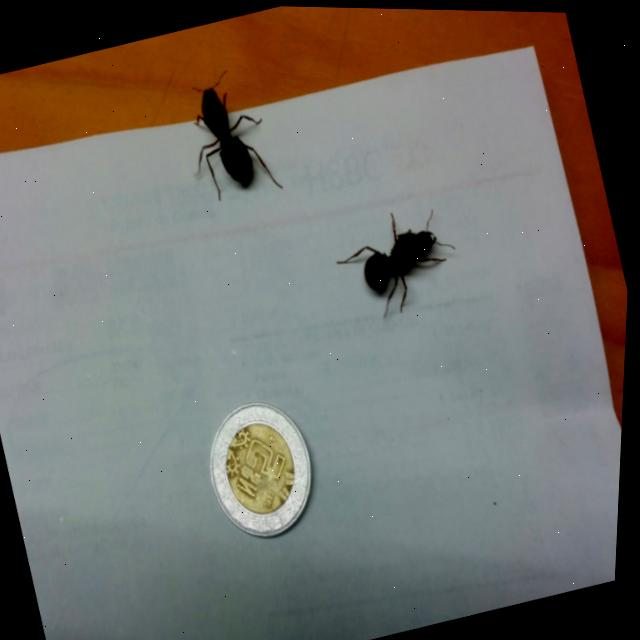Alive-Female-Dealate: (326, 194, 473, 327), (168, 59, 289, 209)
